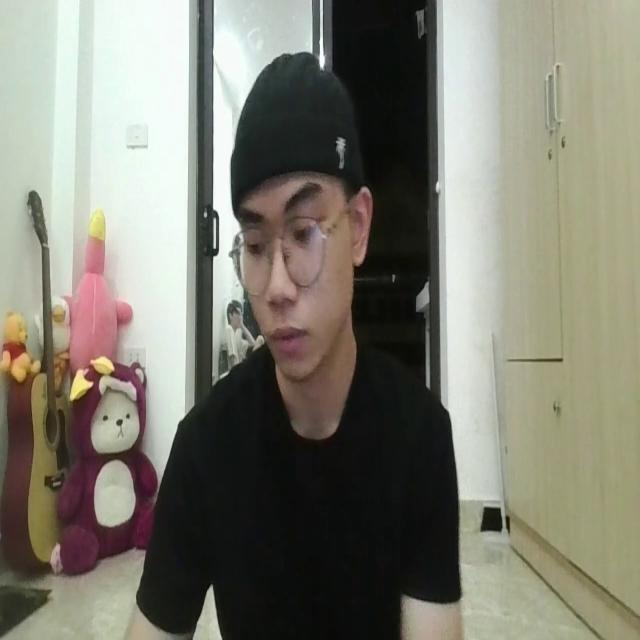student: (135, 46, 462, 640)
